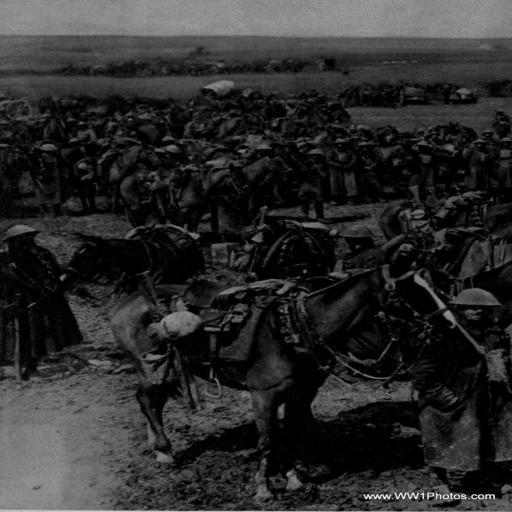horse: (106, 251, 464, 507), (116, 162, 250, 230), (62, 234, 202, 296), (216, 148, 294, 229)
